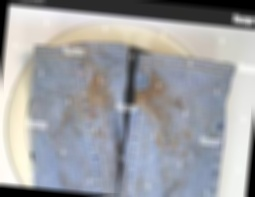earth: (134, 73, 168, 118), (81, 72, 113, 115)
